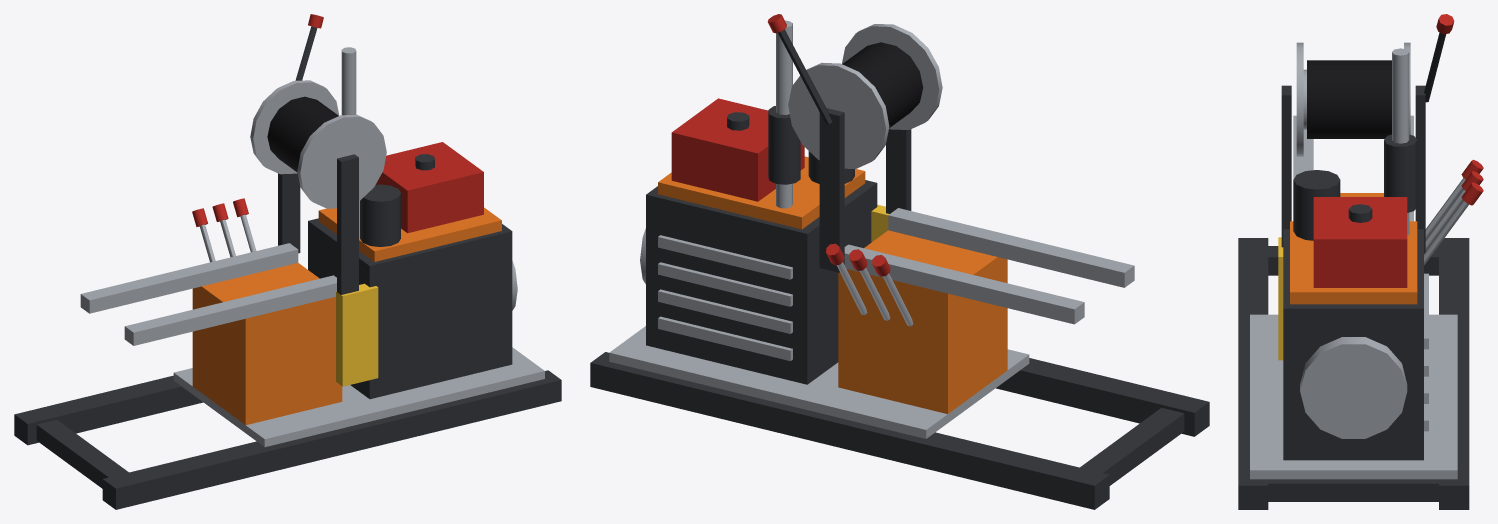
The model's file is RigMachine.obj.
3 renders of one model, left to right at view 1: azimuth 30°, elevation 25°; view 2: azimuth 150°, elevation 25°; view 3: azimuth 270°, elevation 25°, orthographic. The views are drawn at different scales.
Visible parts, largest first — view 1: RigMachine; view 2: RigMachine; view 3: RigMachine.
Part boxes in pixels (<box>): RigMachine: <box>14,14,561,509</box>; RigMachine: <box>590,14,1209,509</box>; RigMachine: <box>1238,14,1483,509</box>.
Bounding box in the file's own units: 1.75 × 1.34 × 0.7333.
